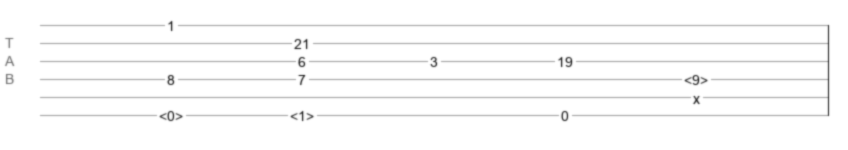0: (561, 108, 569, 118)
1: (167, 18, 175, 28)
19: (557, 54, 573, 64)
21: (294, 36, 310, 46)
3: (430, 54, 438, 64)
6: (298, 54, 306, 64)
7: (298, 72, 306, 82)
8: (167, 72, 175, 82)
harmonic: (159, 108, 183, 118), (290, 108, 314, 118), (684, 72, 708, 82)
x: (693, 91, 700, 99)
